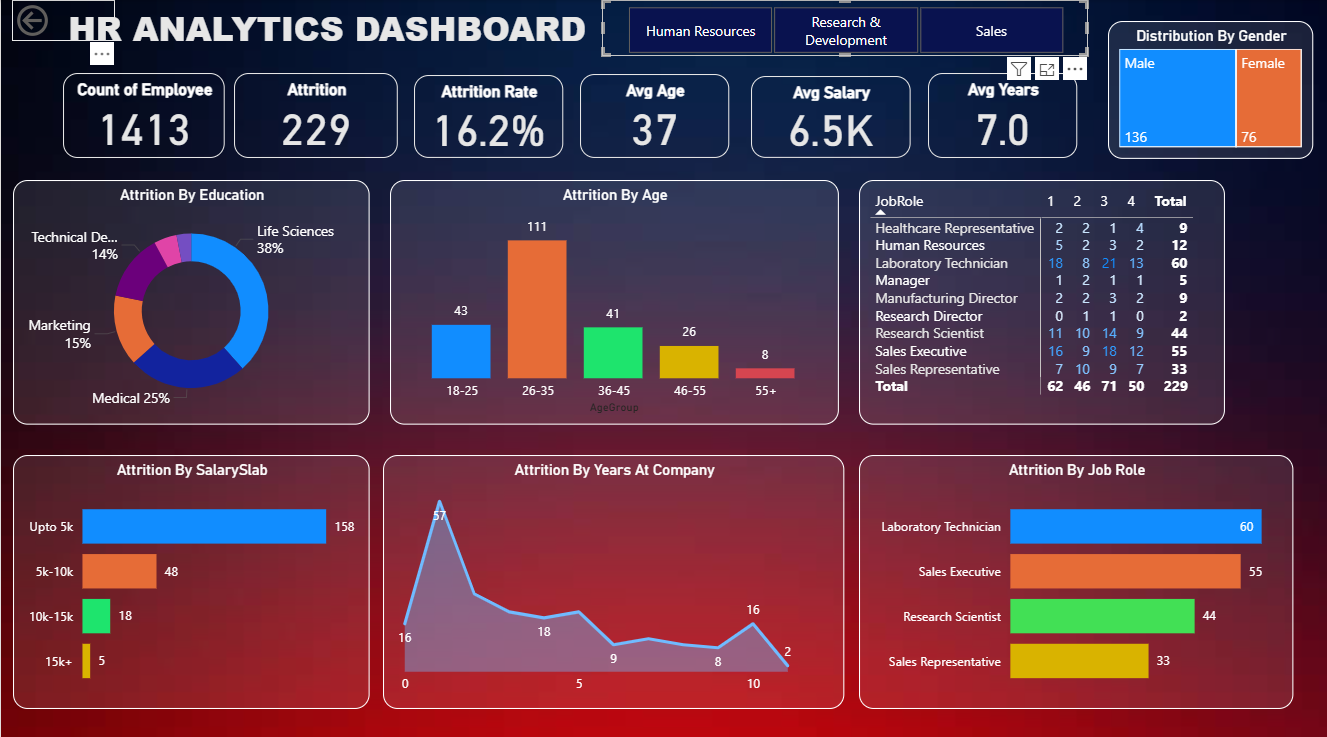

Layout of this report page (visuals, bound fields, positions):
{"tool":"powerbi","page":{"name":"Page 1","canvas":[1280,720],"ordinal":0},"visuals":[{"type":"card","title":"Count of Employee","fields":{"Values":["CountNonNull(HR_Analytics.EmpID)"]},"box":[59.8,70.4,156.3,82],"z":0},{"type":"actionButton","box":[11,0,99,39.6],"z":1000},{"type":"card","title":"Attrition","fields":{"Values":["Sum(HR_Analytics.AttritionCount)"]},"box":[224.7,70.4,158.2,82],"z":2000},{"type":"card","title":"Attrition Rate","fields":{"Values":["HR_Analytics.AttritionRate"]},"box":[398.4,72.3,143.7,80.1],"z":3000},{"type":"card","title":"Avg Age","fields":{"Values":["Avg(HR_Analytics.Age)"]},"box":[558.5,71.4,143.7,81],"z":4000},{"type":"card","title":"Avg Salary","fields":{"Values":["Avg(HR_Analytics.MonthlyIncome)"]},"box":[723.8,73.8,153.8,78.8],"z":5000},{"type":"donutChart","title":"Attrition By Education","fields":{"Category":["HR_Analytics.EducationField"],"Y":["Sum(HR_Analytics.AttritionCount)"]},"box":[11.2,173.8,343.8,236.2],"z":6000},{"type":"card","title":"Avg Years","fields":{"Values":["Avg(HR_Analytics.YearsAtCompany)"]},"box":[894.2,70.4,143.7,82],"z":7000},{"type":"columnChart","title":"Attrition By Age","fields":{"Category":["HR_Analytics.AgeGroup","HR_Analytics.EducationField"],"Y":["Sum(HR_Analytics.AttritionCount)"]},"box":[375,173.8,432.5,236.2],"z":8000},{"type":"pivotTable","fields":{"Rows":["HR_Analytics.JobRole"],"Columns":["HR_Analytics.JobSatisfaction"],"Values":["Sum(HR_Analytics.AttritionCount)"]},"box":[827.5,173.8,352.5,236.2],"z":9000},{"type":"barChart","title":"Attrition By SalarySlab","fields":{"Category":["HR_Analytics.SalarySlab"],"Y":["Sum(HR_Analytics.AttritionCount)"]},"box":[11.2,438.8,343.8,245],"z":10000},{"type":"barChart","title":"Attrition By Job Role","fields":{"Y":["Sum(HR_Analytics.AttritionCount)"],"Category":["HR_Analytics.JobRole"]},"box":[827.5,438.8,418.8,245],"z":11000},{"type":"areaChart","title":"Attrition By  Years At Company","fields":{"Category":["HR_Analytics.YearsAtCompany"],"Y":["Sum(HR_Analytics.AttritionCount)"]},"box":[368.8,438.8,445,245],"z":12000},{"type":"treemap","title":"Distribution By Gender","fields":{"Group":["HR_Analytics.Gender"],"Values":["Sum(HR_Analytics.AttritionCount)"]},"box":[1067.5,20,197.5,132.5],"z":13000},{"type":"slicer","fields":{"Values":["HR_Analytics.Department"]},"box":[580,0,468.8,53.8],"z":14000},{"type":"textbox","box":[60,0,562.5,55],"z":15000}]}

Visuals, with their boxes in screenshot pixels (x1, y1, x2, y2), scaled from the page's 1280x720 canvas onto the 1327x737 screenshot:
"Count of Employee" card: [62,72,224,156]
actionButton: [11,0,114,41]
"Attrition" card: [233,72,397,156]
"Attrition Rate" card: [413,74,562,156]
"Avg Age" card: [579,73,728,156]
"Avg Salary" card: [750,76,910,156]
"Attrition By Education" donutChart: [12,178,368,420]
"Avg Years" card: [927,72,1076,156]
"Attrition By Age" columnChart: [389,178,837,420]
pivotTable - HR_Analytics.JobRole x HR_Analytics.JobSatisfaction: [858,178,1223,420]
"Attrition By SalarySlab" barChart: [12,449,368,700]
"Attrition By Job Role" barChart: [858,449,1292,700]
"Attrition By  Years At Company" areaChart: [382,449,844,700]
"Distribution By Gender" treemap: [1107,20,1311,156]
slicer - HR_Analytics.Department: [601,0,1087,55]
textbox: [62,0,645,56]
